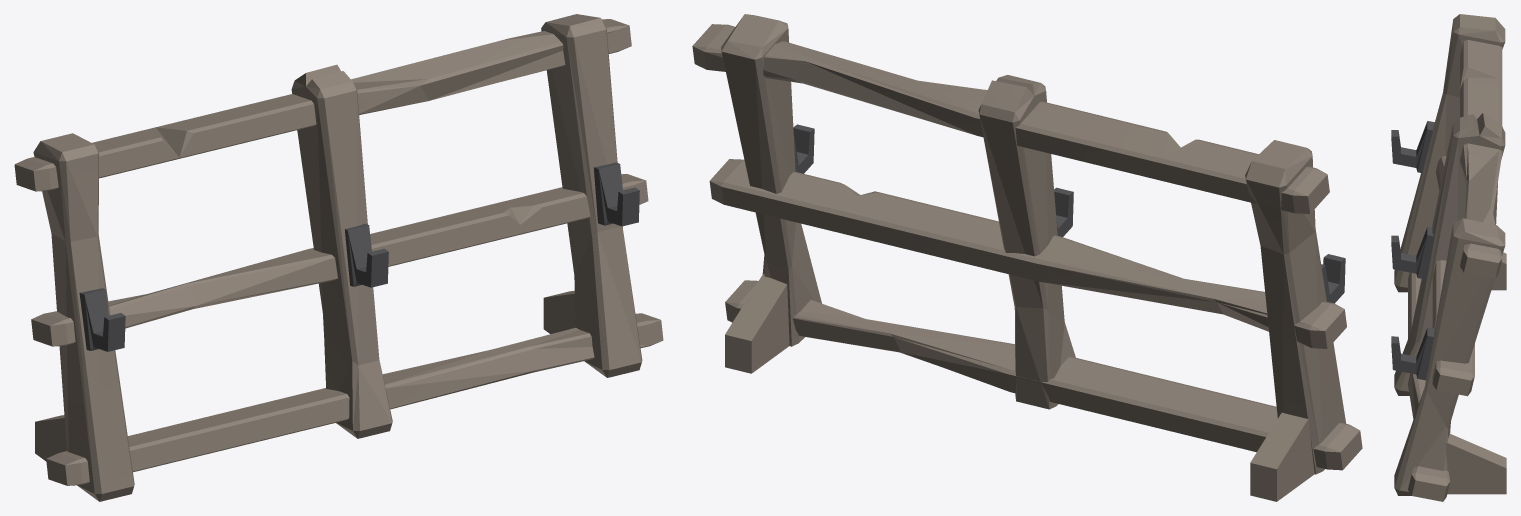
The model's file is Estante_02.glb.
3 renders of one model, left to right at view 1: azimuth 30°, elevation 25°; view 2: azimuth 150°, elevation 25°; view 3: azimuth 270°, elevation 25°, orthographic. The views are drawn at different scales.
Parts seen in each view (by area): view 1: SM_Prop_Rack_01; view 2: SM_Prop_Rack_01; view 3: SM_Prop_Rack_01.
Part boxes in pixels (<box>): SM_Prop_Rack_01: <box>14,14,663,501</box>; SM_Prop_Rack_01: <box>692,14,1362,501</box>; SM_Prop_Rack_01: <box>1391,14,1506,501</box>.
Bounding box in the file's own units: 1.56 × 0.8218 × 0.3184.
Materials: 1 (1 with a texture image).
